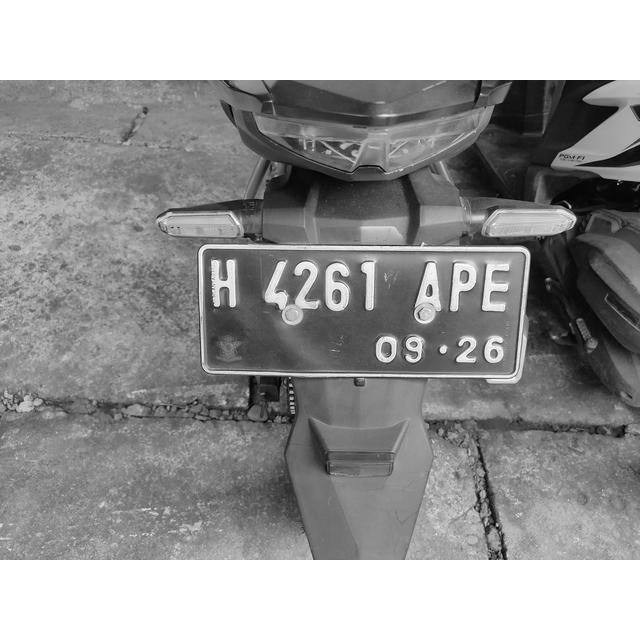license: (206, 254, 519, 368)
